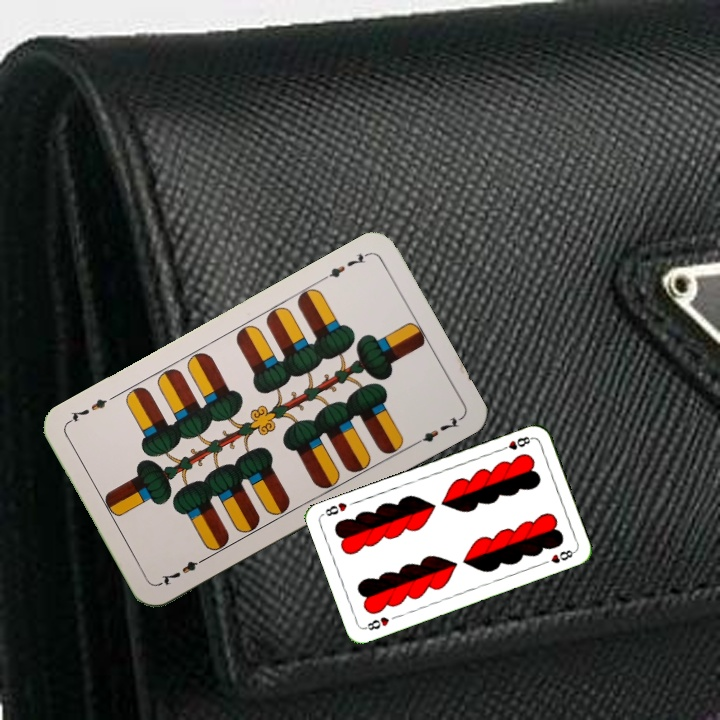E7: (155, 553, 210, 588), (317, 248, 372, 283)
H8: (496, 432, 535, 454), (361, 613, 392, 633)
